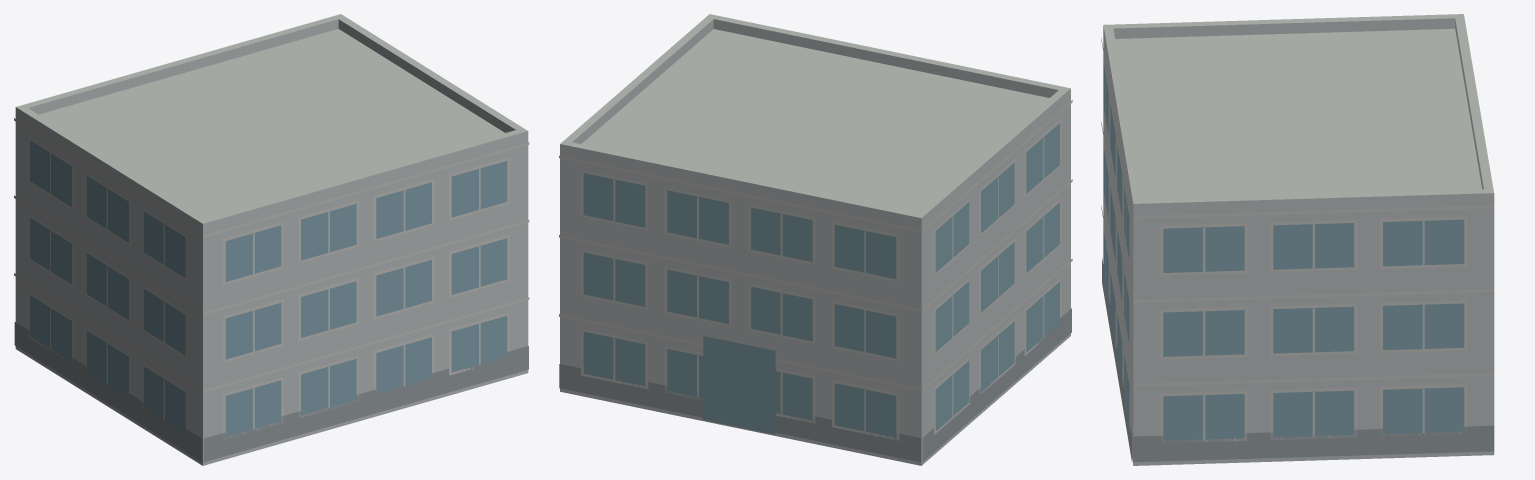
Rendered from public-cddeadc2-55f8-4075-bd99-6c854c342471.glb.
3 views of the same model, side by side, from view 1: azimuth 30°, elevation 25°; view 2: azimuth 150°, elevation 25°; view 3: azimuth 270°, elevation 25° (orthographic). The views are drawn at different scales.
Parts seen in each view (by area): view 1: public-cddeadc2-55f8-4075-bd99-6c854c342471; view 2: public-cddeadc2-55f8-4075-bd99-6c854c342471; view 3: public-cddeadc2-55f8-4075-bd99-6c854c342471.
Part boxes in pixels (box(x1,y1,x2,y2)): public-cddeadc2-55f8-4075-bd99-6c854c342471: box(14, 14, 529, 465); public-cddeadc2-55f8-4075-bd99-6c854c342471: box(559, 14, 1072, 465); public-cddeadc2-55f8-4075-bd99-6c854c342471: box(1101, 14, 1494, 465).
Bounding box in the file's own units: 14.37 × 9.15 × 13.28.
